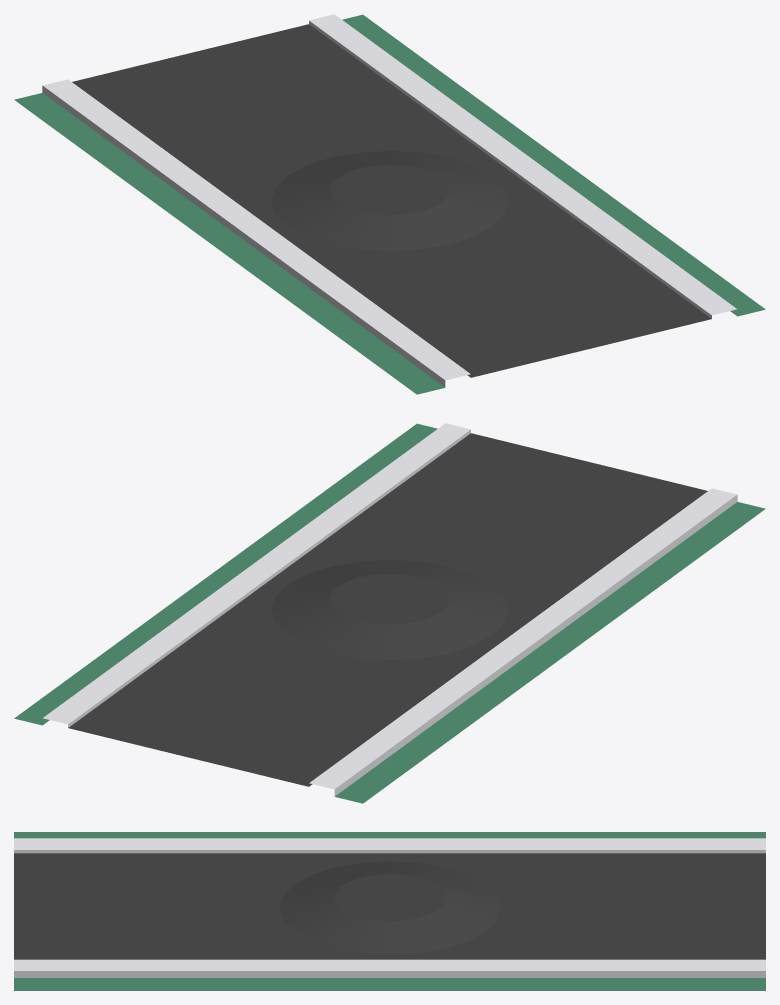
Rendered from roadStraightLongBumpRound.glb.
3 renders of one model, top to bottom at view 1: azimuth 30°, elevation 25°; view 2: azimuth 150°, elevation 25°; view 3: azimuth 270°, elevation 25°, orthographic. The views are drawn at different scales.
Visible parts, largest first — view 1: roadStraightLongBumpRound(Clone); view 2: roadStraightLongBumpRound(Clone); view 3: roadStraightLongBumpRound(Clone).
Part boxes in pixels (<box>): roadStraightLongBumpRound(Clone): <box>14,14,765,394</box>; roadStraightLongBumpRound(Clone): <box>14,423,765,803</box>; roadStraightLongBumpRound(Clone): <box>14,832,765,990</box>.
Size of the model in its own units: 1 by 0.04 by 2.
